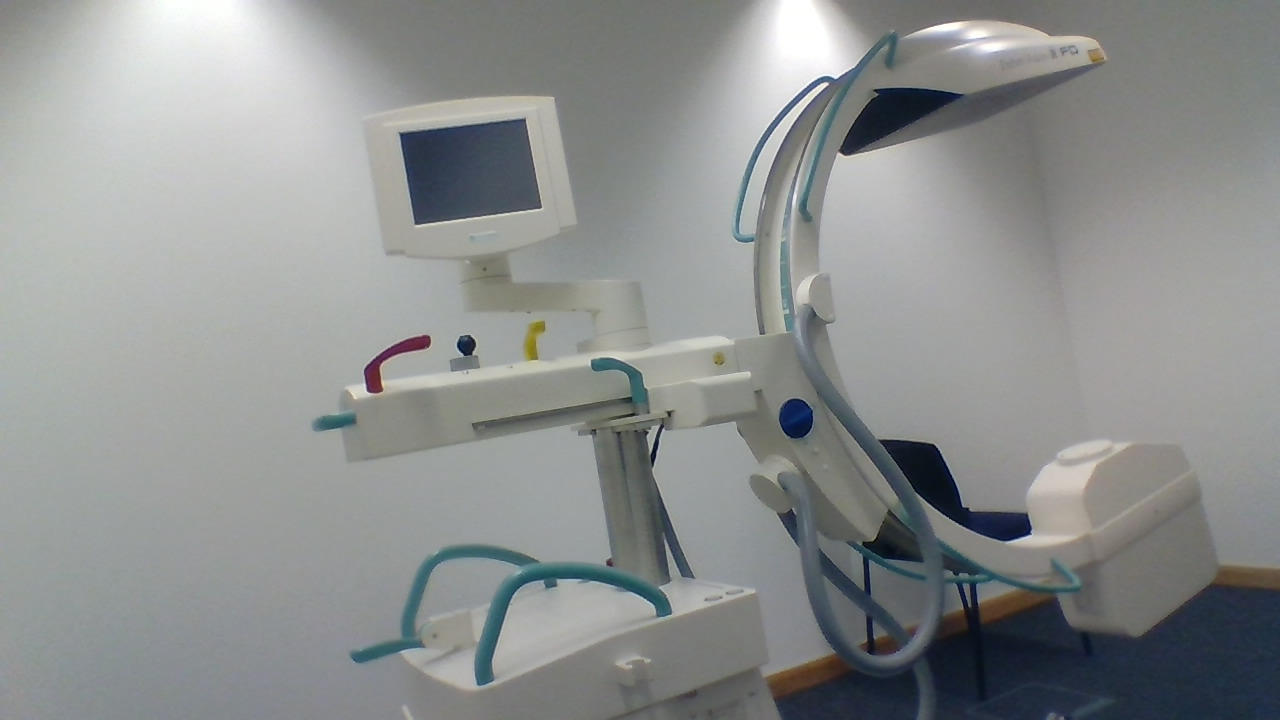carmBACK: (347, 613, 476, 663)
carmDOWN: (1024, 438, 1192, 540)
carmLOCK: (777, 397, 814, 439)
carmSCREEN: (358, 93, 581, 260)
carmUP: (829, 17, 1110, 155)
